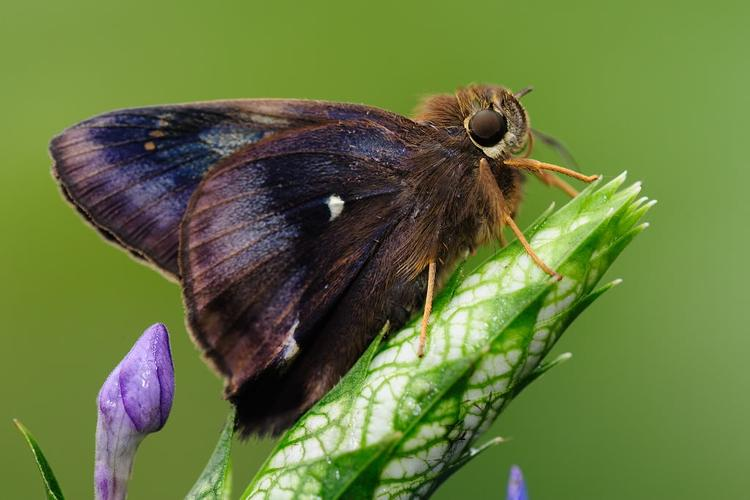Hesperiidae: (47, 84, 612, 438)
